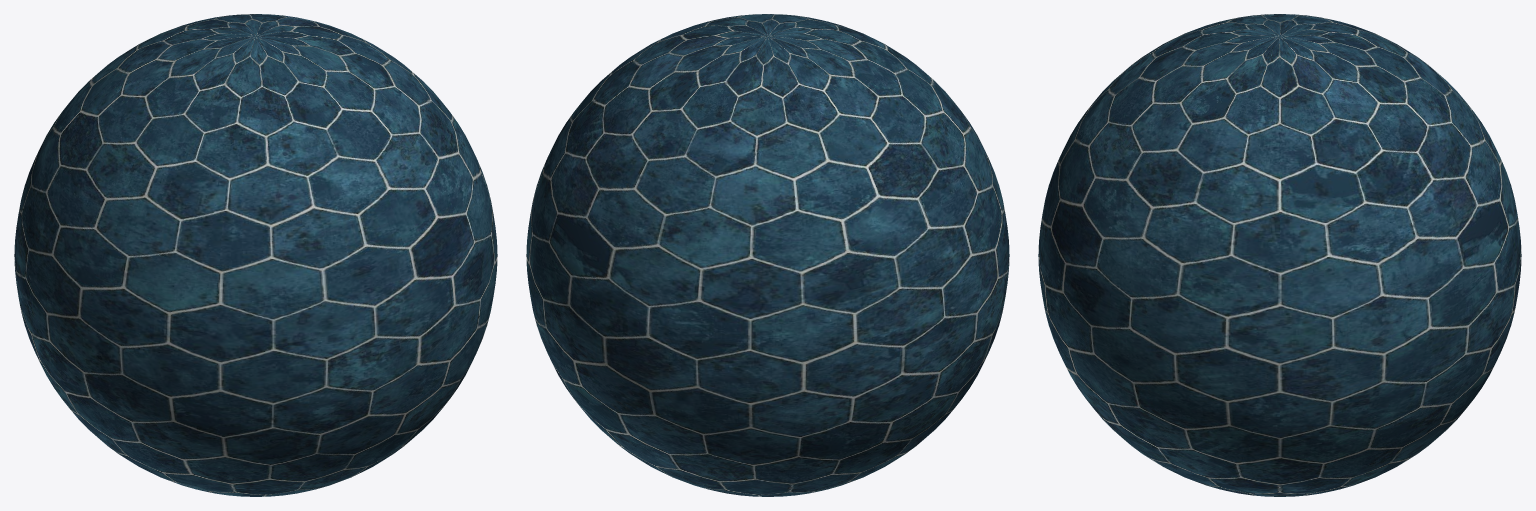
File: Unbenannt.glb
The picture shows the model from 3 angles, left to right: view 1: azimuth 30°, elevation 25°; view 2: azimuth 150°, elevation 25°; view 3: azimuth 270°, elevation 25°; orthographic projection.
Visible parts, largest first — view 1: Kugel; view 2: Kugel; view 3: Kugel.
Part boxes in pixels (x1,y1,x2,y2): Kugel: [14, 14, 497, 496]; Kugel: [526, 14, 1009, 496]; Kugel: [1038, 14, 1521, 496].
Bounding box in the file's own units: 0.2 × 0.2 × 0.2.
1 material, 1 textured.
